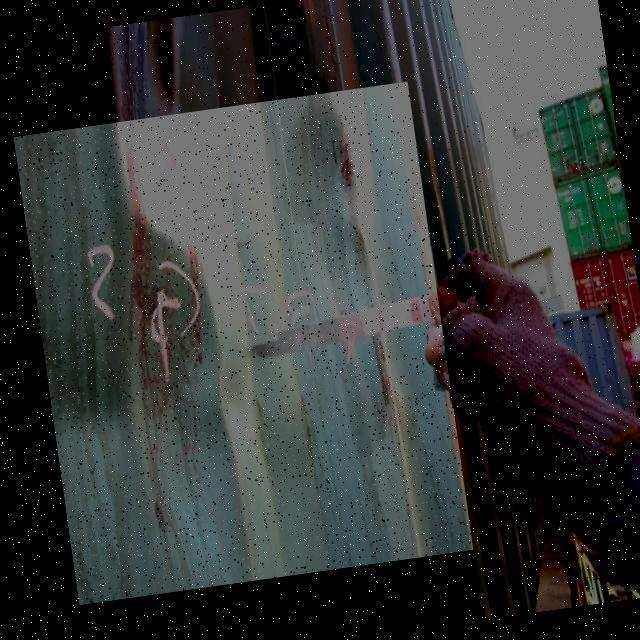Dent: (14, 82, 474, 606)
